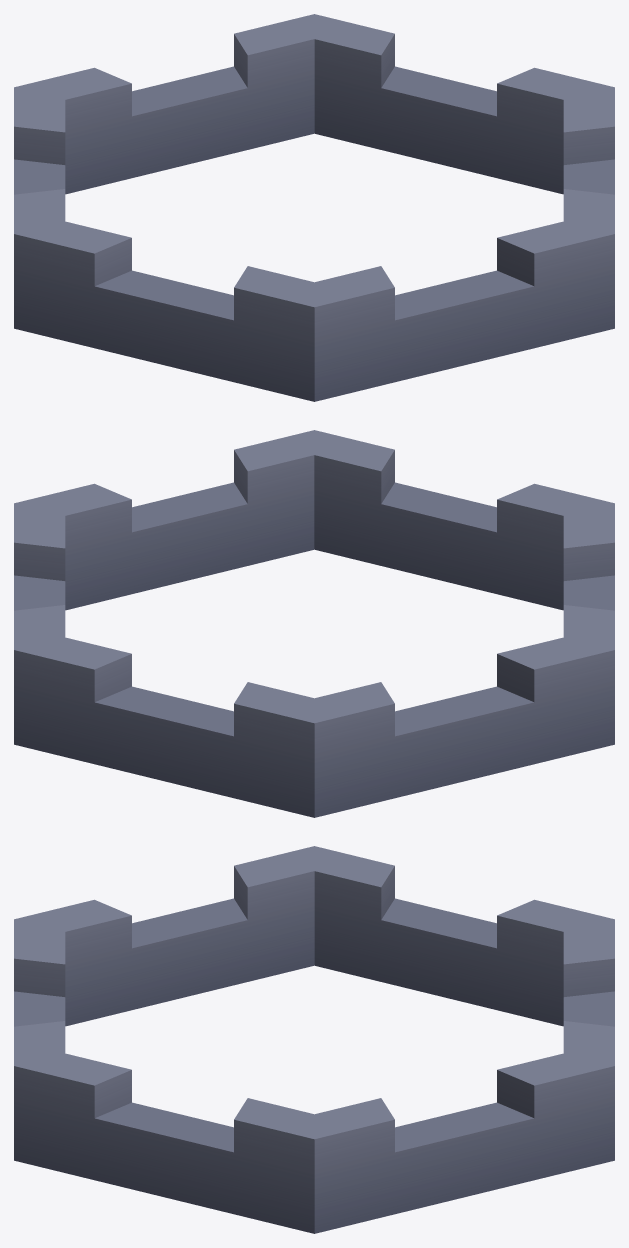
The model's file is tower-hexagon-top.fbx.
The picture shows the model from 3 angles, top to bottom: view 1: azimuth 30°, elevation 25°; view 2: azimuth 150°, elevation 25°; view 3: azimuth 270°, elevation 25°; orthographic projection.
Parts seen in each view (by area): view 1: tower-hexagon-top; view 2: tower-hexagon-top; view 3: tower-hexagon-top.
Boxes of the visible parts, bbox=[...] form: tower-hexagon-top: bbox=[14, 14, 614, 401]; tower-hexagon-top: bbox=[14, 430, 614, 817]; tower-hexagon-top: bbox=[14, 846, 614, 1233].
Bounding box in the file's own units: 0.864 × 0.7482 × 0.13.
